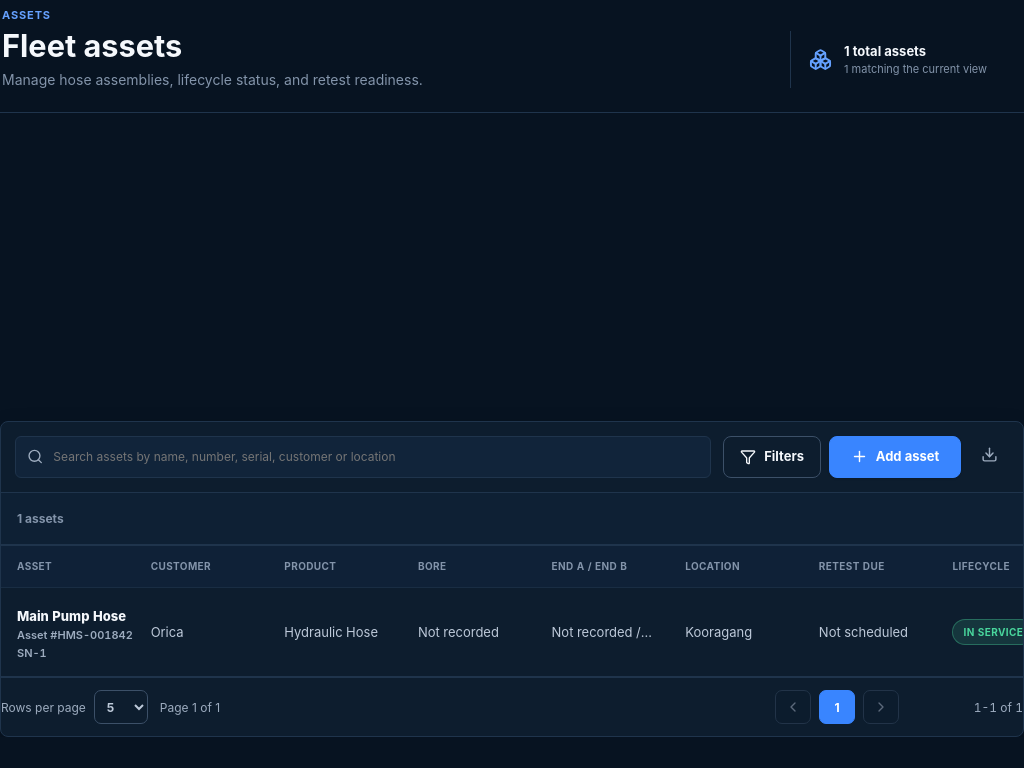
Asset form › marks Agent, Location, Asset Name, Serial Number and Product as required, visibly and semantically, and nothing else
Check: the text "Main Pump Hose" is shown, box [17,608,126,624]
Click the button "Add asset": {"x": 895, "y": 456} [829,436,961,478]
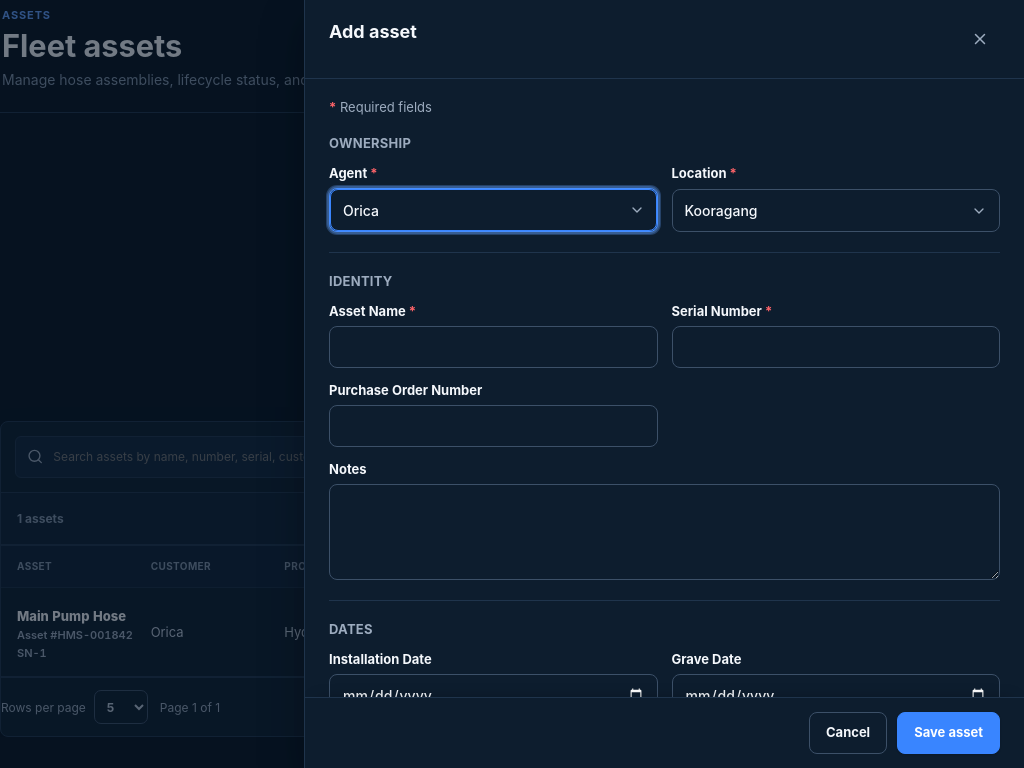
Check: the heading "Add asset" is shown, box [329,20,417,43]
Check: the text "Required fields" reads "* Required fields", box [329,99,432,115]
